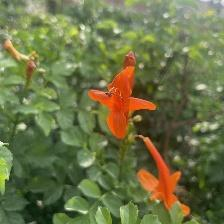honeysuckle: (91, 66, 159, 142)
